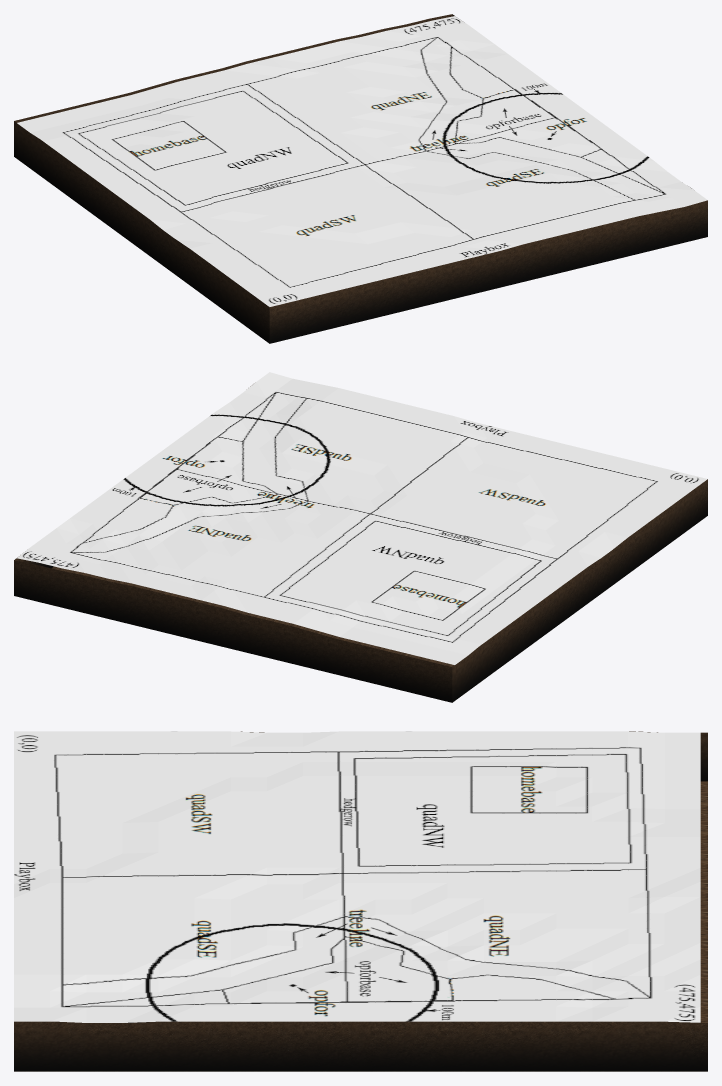
Rendered from slo_terrain.dae.
The picture shows the model from 3 angles, top to bottom: view 1: azimuth 30°, elevation 25°; view 2: azimuth 150°, elevation 25°; view 3: azimuth 270°, elevation 25°; orthographic projection. The views are drawn at different scales.
Visible parts, largest first — view 1: DEM, ground; view 2: DEM, ground; view 3: DEM, ground.
Part boxes in pixels (x1,y1,x2,y2): DEM: (17, 16, 707, 306); ground: (14, 14, 707, 343); DEM: (17, 372, 707, 664); ground: (14, 386, 707, 702); DEM: (14, 731, 700, 1022); ground: (14, 731, 707, 1071).
Size of the model in its own units: 475 by 480 by 40.
